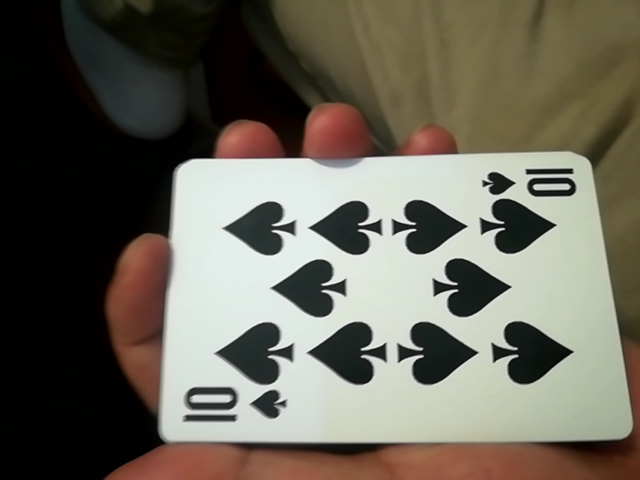ht 10: (146, 146, 615, 460)
